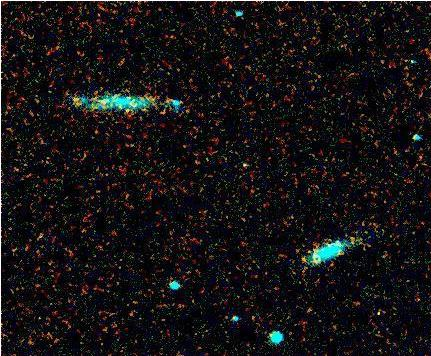star: (63, 86, 93, 116)
